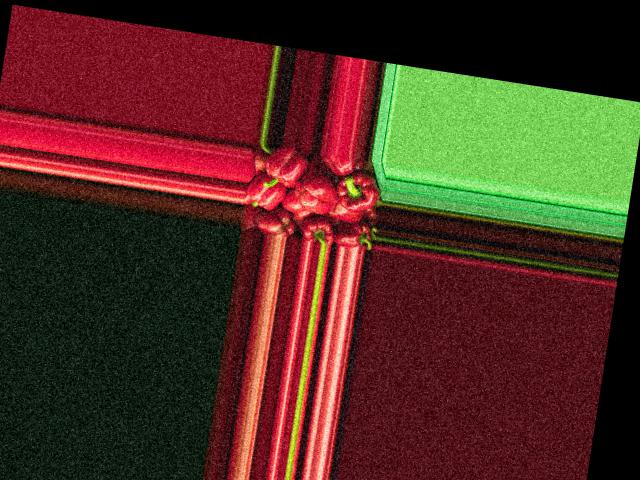bell_pepper: (335, 219, 375, 250)
